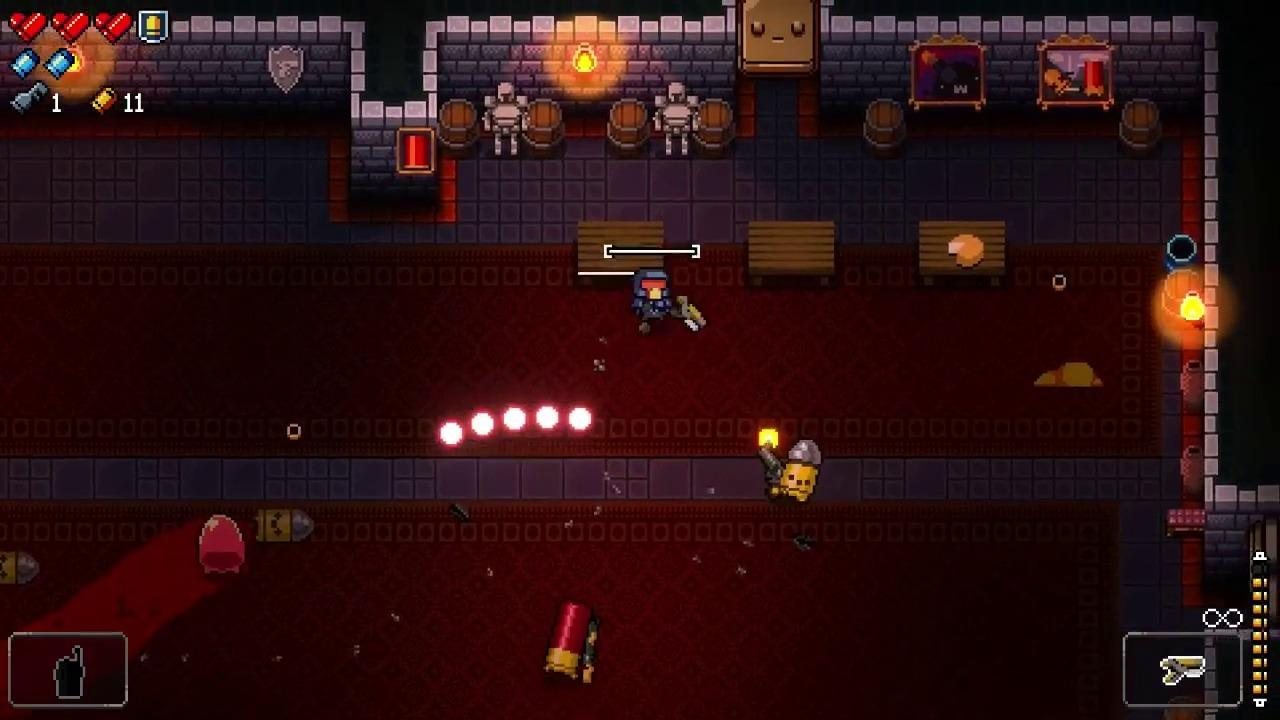blobulon_l: (198, 515, 245, 572)
bullet: (436, 419, 466, 448), (470, 408, 497, 439), (502, 405, 528, 434), (568, 404, 594, 433), (535, 403, 562, 430)
bullet_kin: (781, 439, 821, 502)
dead_apprentice_gunjurer: (1034, 362, 1105, 385)
dead_bullet_kin: (257, 509, 316, 543)
locked_door: (737, 0, 819, 74)
player: (635, 267, 670, 321)
red_shotgun_kin: (545, 599, 593, 680)
table: (918, 222, 1005, 286), (749, 222, 834, 286), (577, 222, 662, 281)
